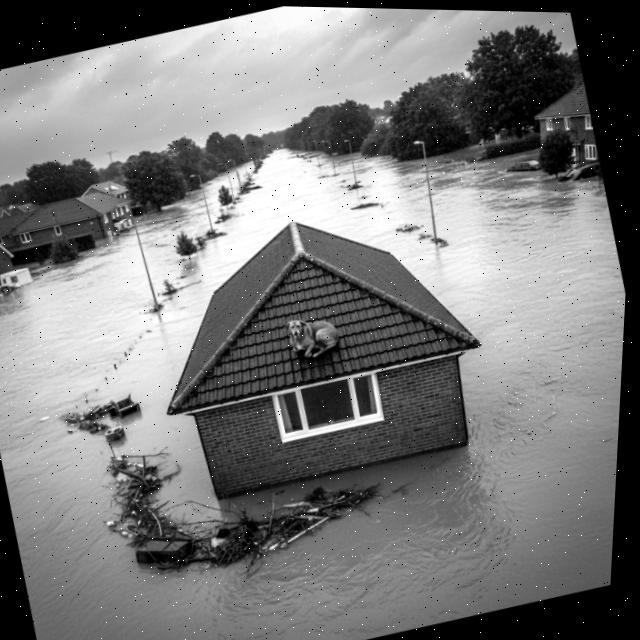dog: (279, 303, 352, 369)
